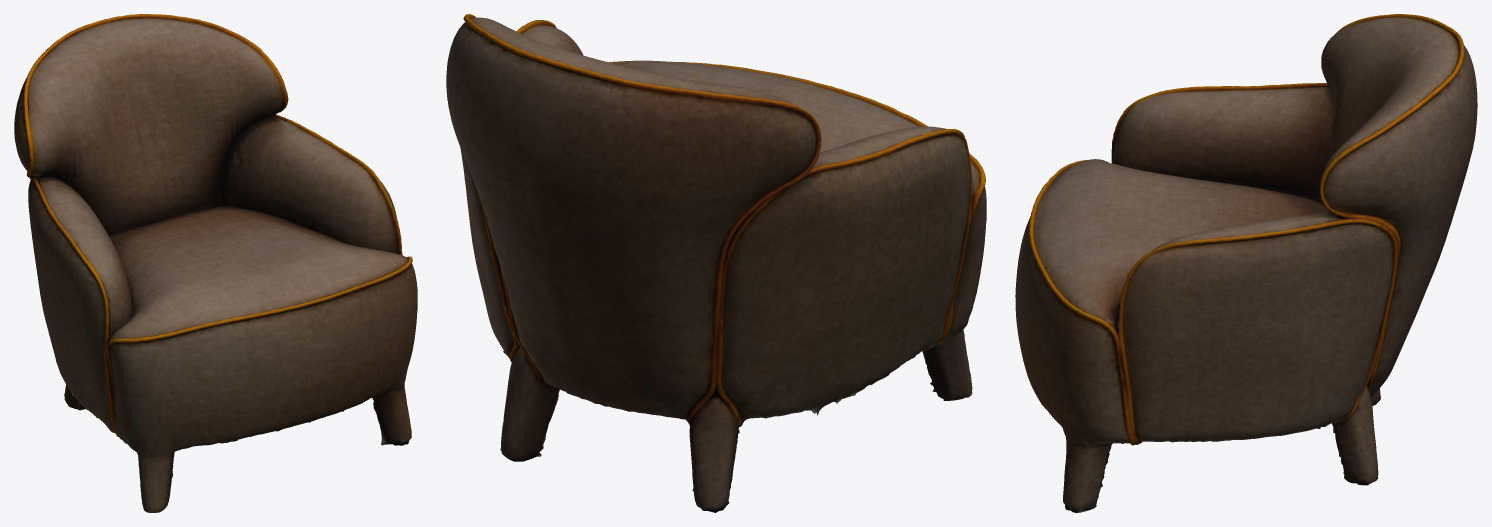
Rendered from PoltronaPolpetta.glb.
3 renders of one model, left to right at view 1: azimuth 30°, elevation 25°; view 2: azimuth 150°, elevation 25°; view 3: azimuth 270°, elevation 25°, orthographic. The views are drawn at different scales.
Parts seen in each view (by area): view 1: root; view 2: root; view 3: root.
Boxes of the visible parts, <box> form: root: <box>14,14,417,512</box>; root: <box>446,14,986,512</box>; root: <box>1015,14,1477,512</box>.
Size of the model in its own units: 0.5957 by 0.6139 by 0.6571.
Materials: 1 (1 with a texture image).
